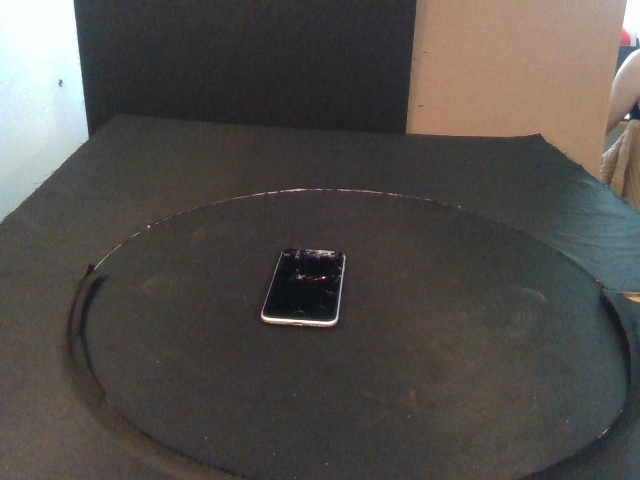phone: (261, 248, 346, 328)
